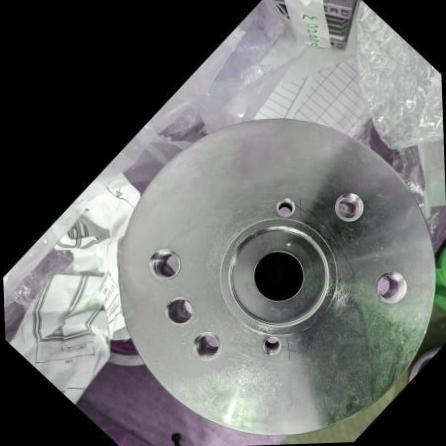hole: (360, 257, 420, 318), (322, 176, 381, 236), (178, 318, 236, 373), (136, 236, 192, 291), (153, 284, 206, 338), (263, 186, 305, 228), (253, 326, 290, 363)
